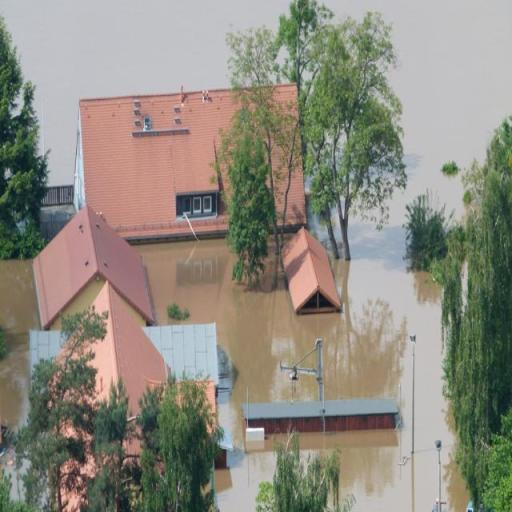flood: (134, 228, 469, 512), (0, 0, 290, 185), (322, 0, 512, 233), (0, 261, 38, 425), (350, 222, 406, 268), (310, 214, 333, 258), (330, 208, 346, 265), (298, 349, 318, 367)
house: (74, 85, 306, 239), (54, 280, 184, 508), (36, 208, 152, 324), (238, 394, 400, 432), (284, 224, 344, 323)
